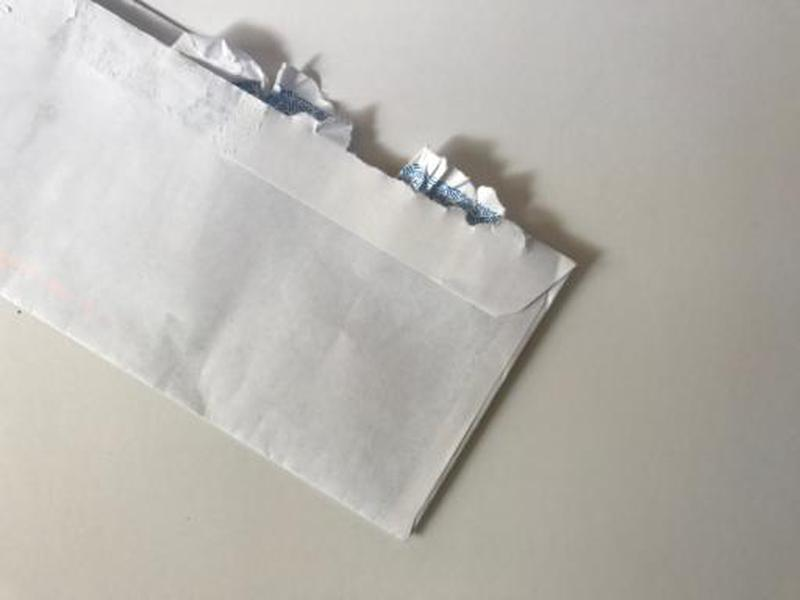paper: (3, 1, 579, 543)
